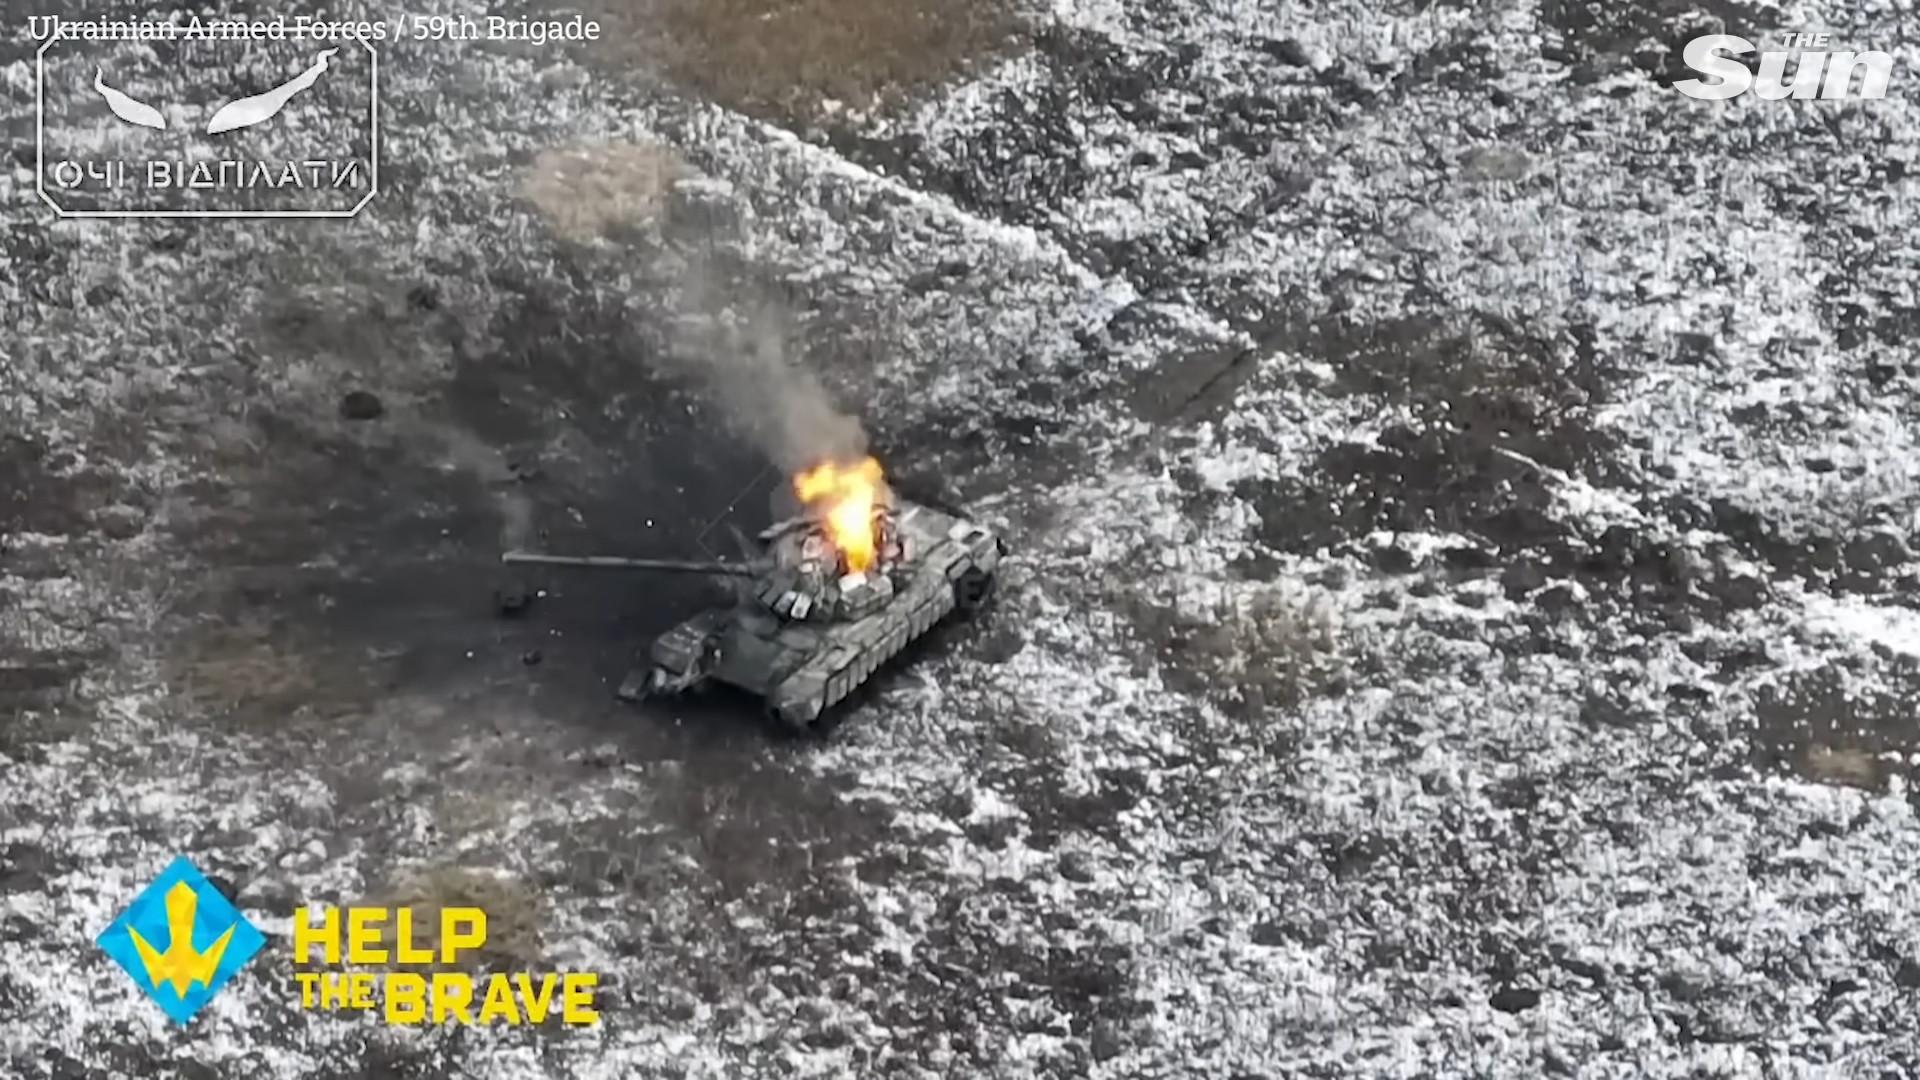tank: (501, 477, 1004, 740)
